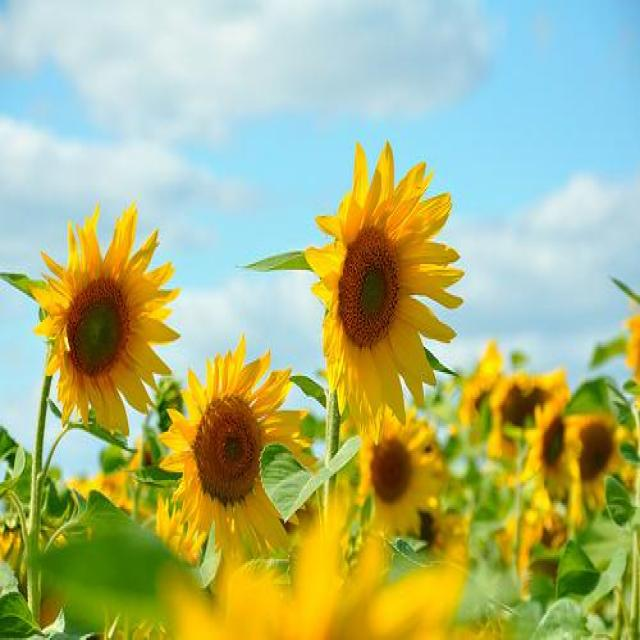sunflower: (158, 465, 464, 640), (304, 143, 464, 441), (31, 202, 182, 440), (158, 339, 316, 557), (357, 403, 446, 534), (503, 400, 577, 485), (571, 411, 632, 503), (516, 484, 558, 596), (486, 380, 533, 459), (156, 494, 208, 559), (456, 340, 498, 420), (526, 372, 570, 417)
